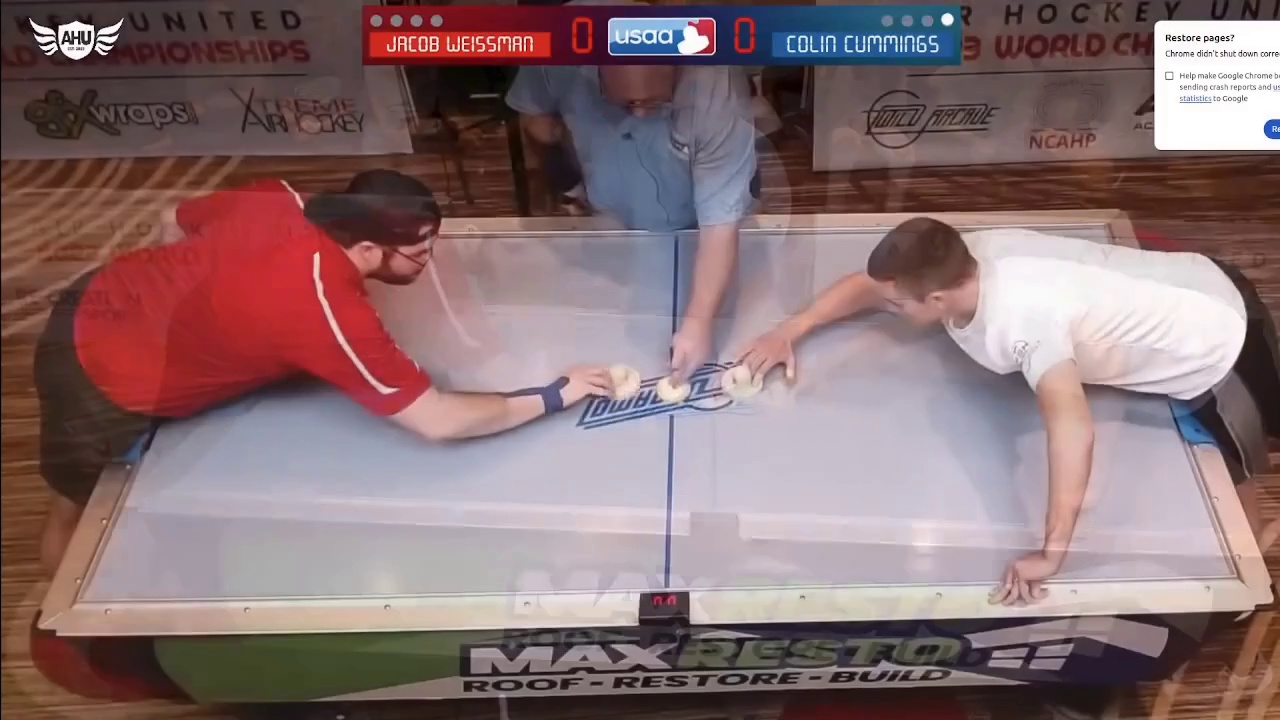player: (714, 366, 775, 398), (595, 362, 644, 401)
puck: (657, 374, 694, 406)
table: (93, 194, 1265, 605)
